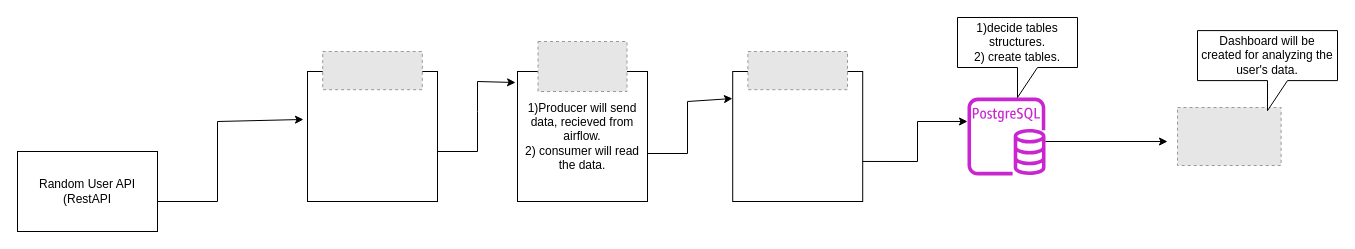
Some shapes in this 1355 by 249 pixel diagram are drawn without their labels. Grey dashed boxes stand in for pictures. The shapes that lost their labels are listed below. From the top down, each one's box as (x1, y1, x2, y2) in pixels, then its label:
(306, 70, 438, 202): Extract user data from API and pass it into Kafka.
(732, 70, 863, 202): data from the kafka will be processed and then loaded into the database.
